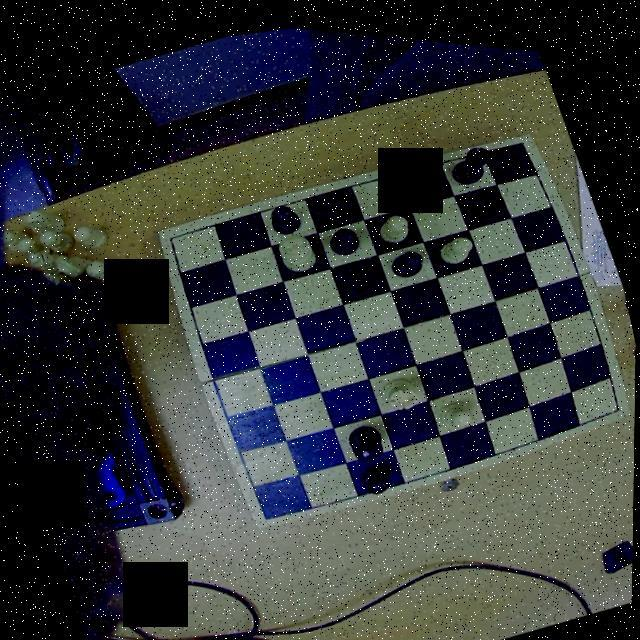chess-table-corners: (253, 492, 286, 524), (158, 222, 188, 252), (504, 120, 536, 146), (605, 378, 632, 406)
